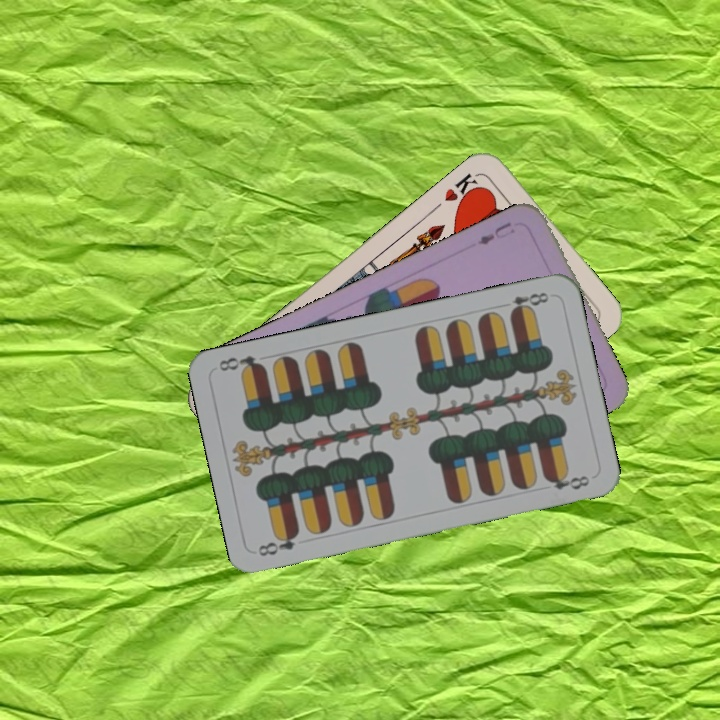E8: (496, 288, 552, 318), (254, 527, 302, 559)
EU: (473, 217, 514, 248)
HK: (440, 169, 484, 209)
